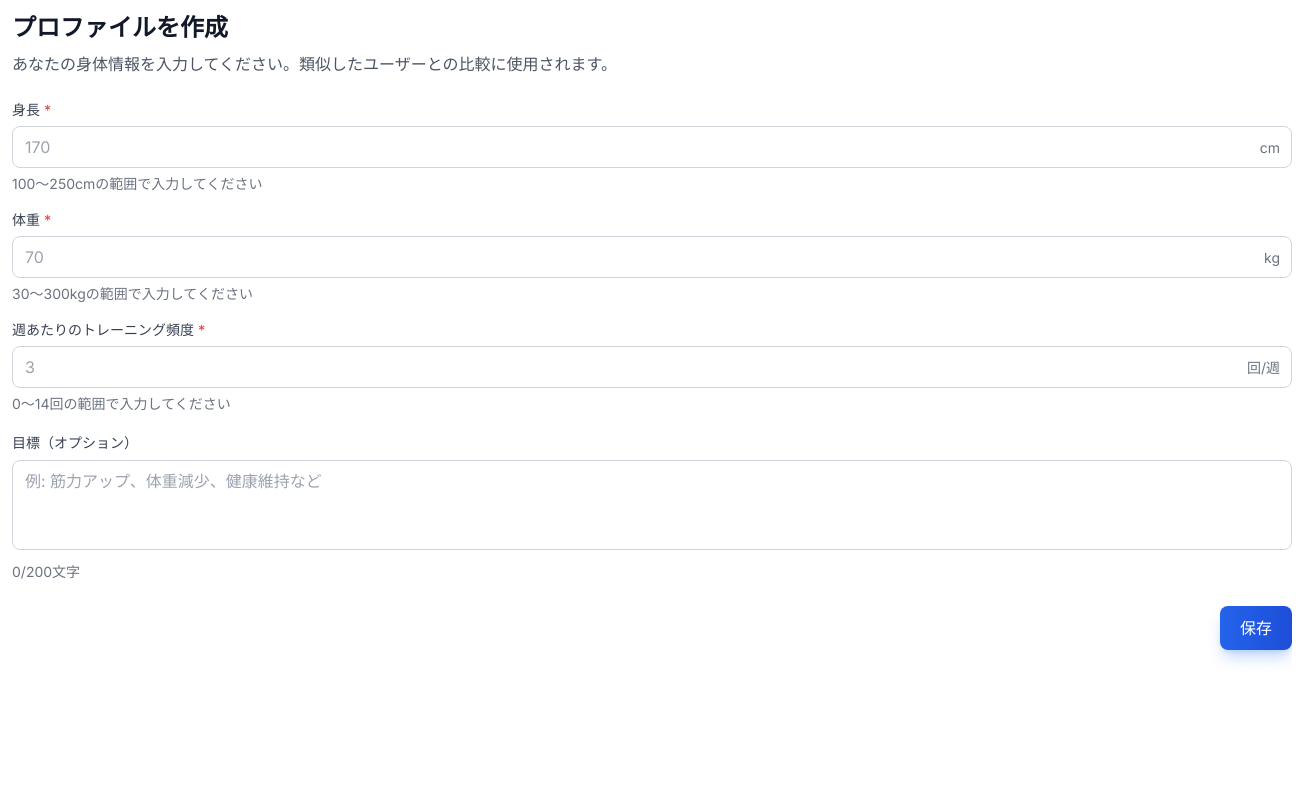
Test: ProfileForm › バリデーション - 要件5.3 › 体重が範囲外の場合、エラーメッセージを表示する
Type "400" into the number field labelled "体重*".
click(652, 257); type("400")  # box [12,236,1292,278]
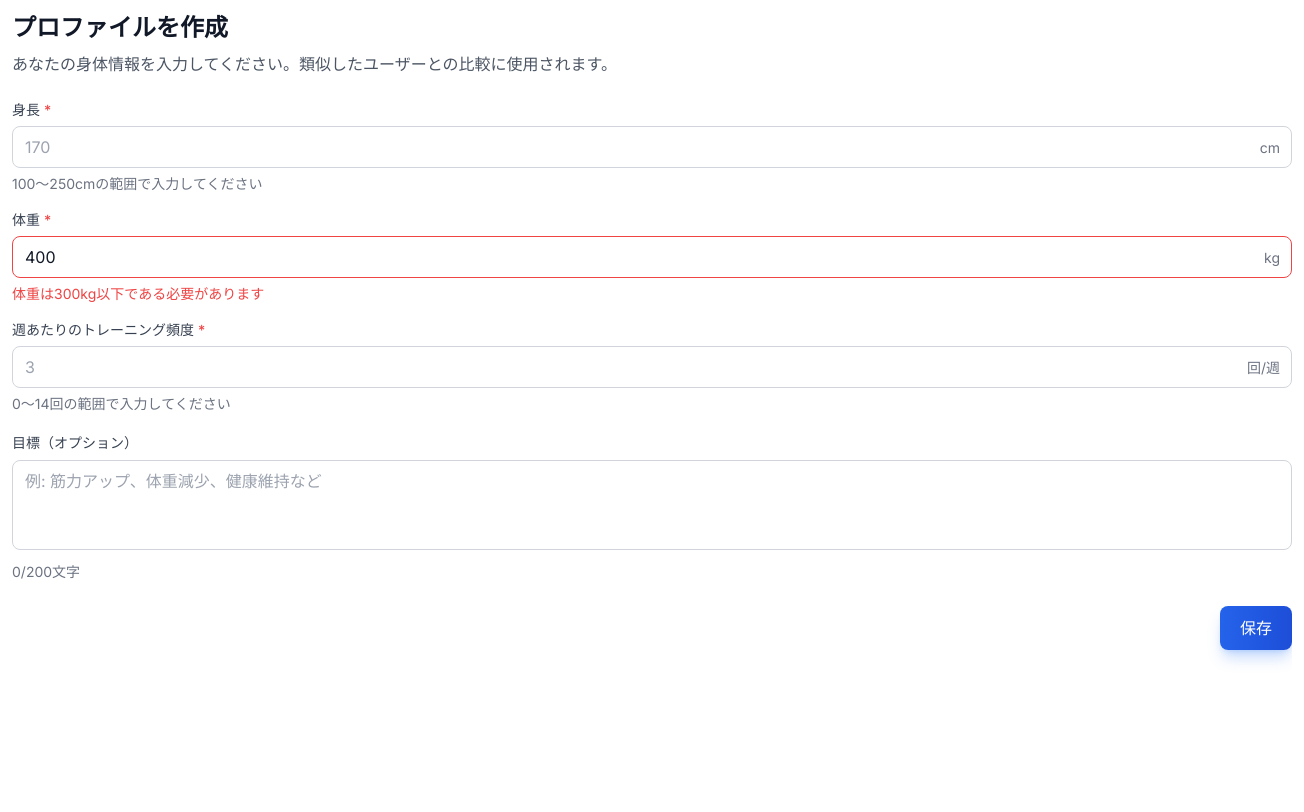
Result: the text "体重は300kg以下である必要があります" is shown at [12,285,264,302]
